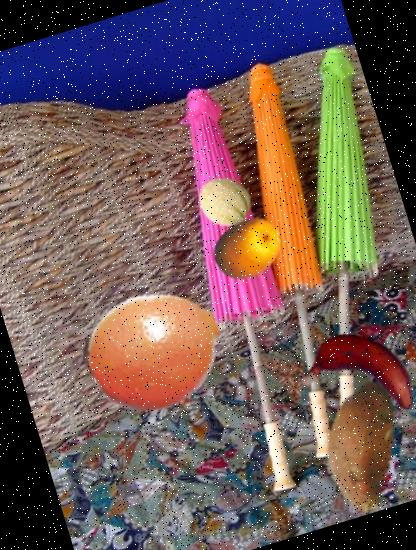Banana: (293, 299, 416, 443)
Cantaloupe: (191, 166, 260, 236)
Cocos: (70, 286, 193, 410)
Kumquats: (204, 204, 293, 293)
Potato: (276, 360, 416, 529)
Tangelo: (72, 266, 242, 436)
